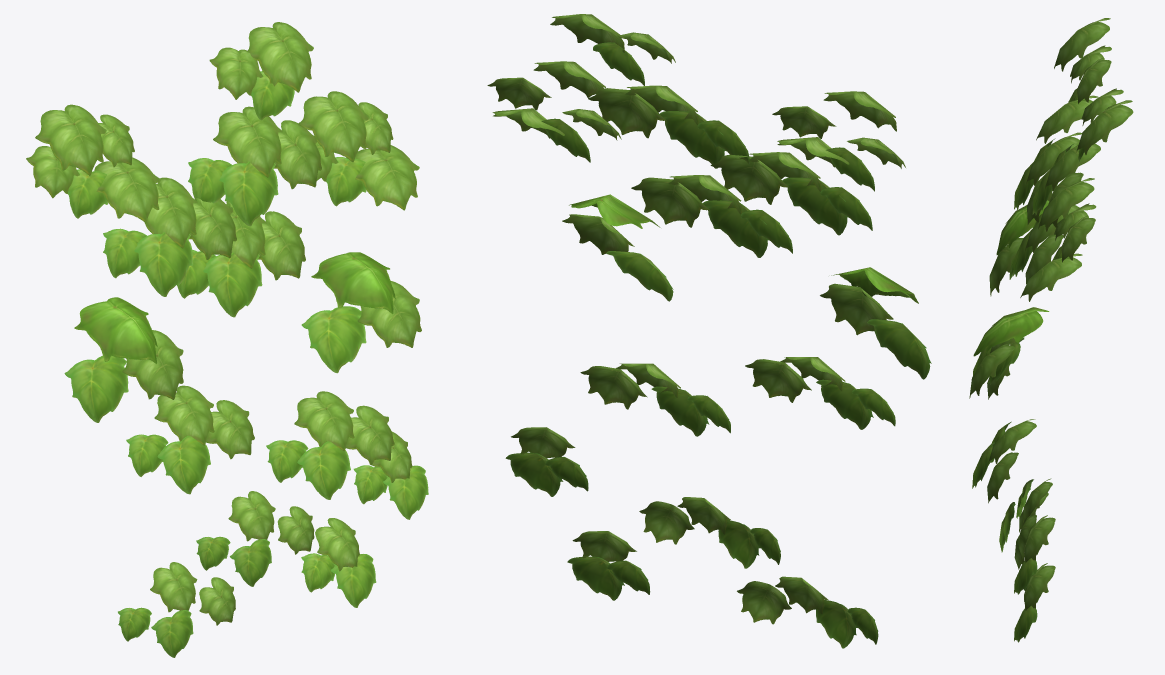
File: LvyB.fbx
3 views of the same model, side by side, from view 1: azimuth 30°, elevation 25°; view 2: azimuth 150°, elevation 25°; view 3: azimuth 270°, elevation 25° (orthographic). The views are drawn at different scales.
Parts seen in each view (by area): view 1: LvyB; view 2: LvyB; view 3: LvyB.
Boxes of the visible parts, <box> form: LvyB: <box>26,22,428,657</box>; LvyB: <box>487,14,931,648</box>; LvyB: <box>969,18,1133,642</box>.
Size of the model in its own units: 4.66 by 6.43 by 1.99.
